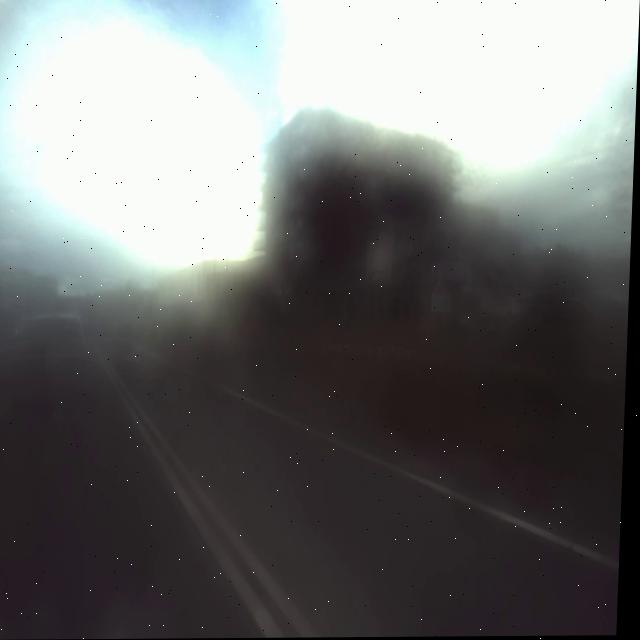car: (3, 297, 117, 410)
